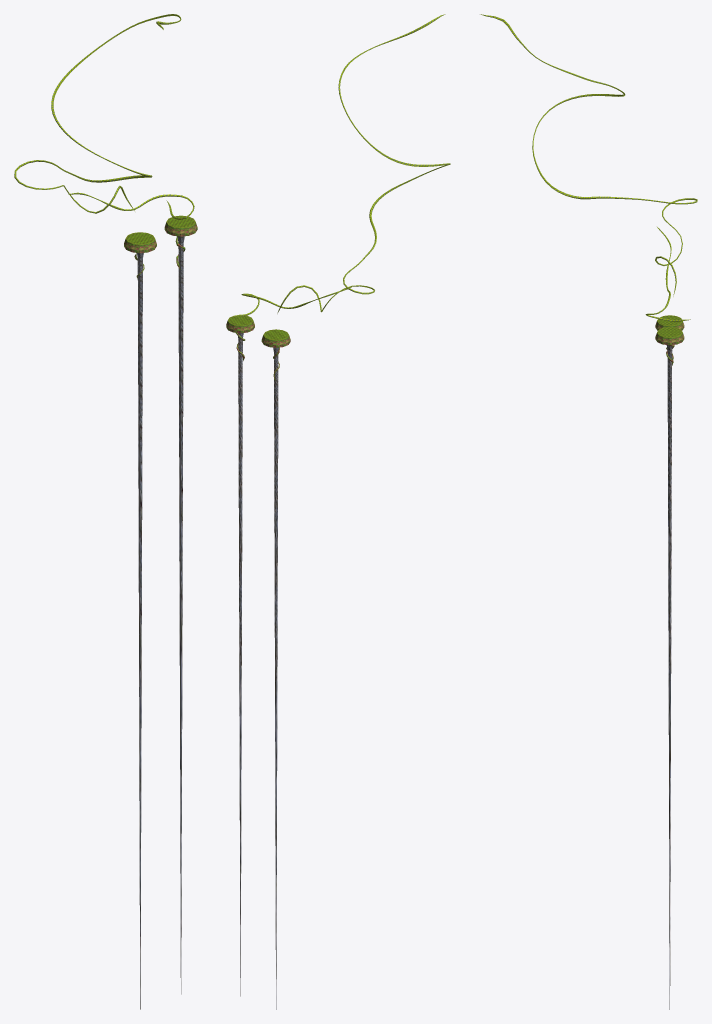
The model's file is 2P_Frog_forest5.obj.
3 views of the same model, side by side, from view 1: azimuth 30°, elevation 25°; view 2: azimuth 150°, elevation 25°; view 3: azimuth 270°, elevation 25° (orthographic). The views are drawn at different scales.
Parts seen in each view (by area): view 1: Object_2, obj1; view 2: Object_2; view 3: Object_2.
Part boxes in pixels (x1,y1,x2,y2): Object_2: [14, 14, 197, 1009]; obj1: [125, 215, 195, 244]; Object_2: [226, 14, 450, 1009]; Object_2: [480, 14, 697, 1009].
Size of the model in its own units: 1510 by 8108 by 1695.
10 materials, 10 textured.
